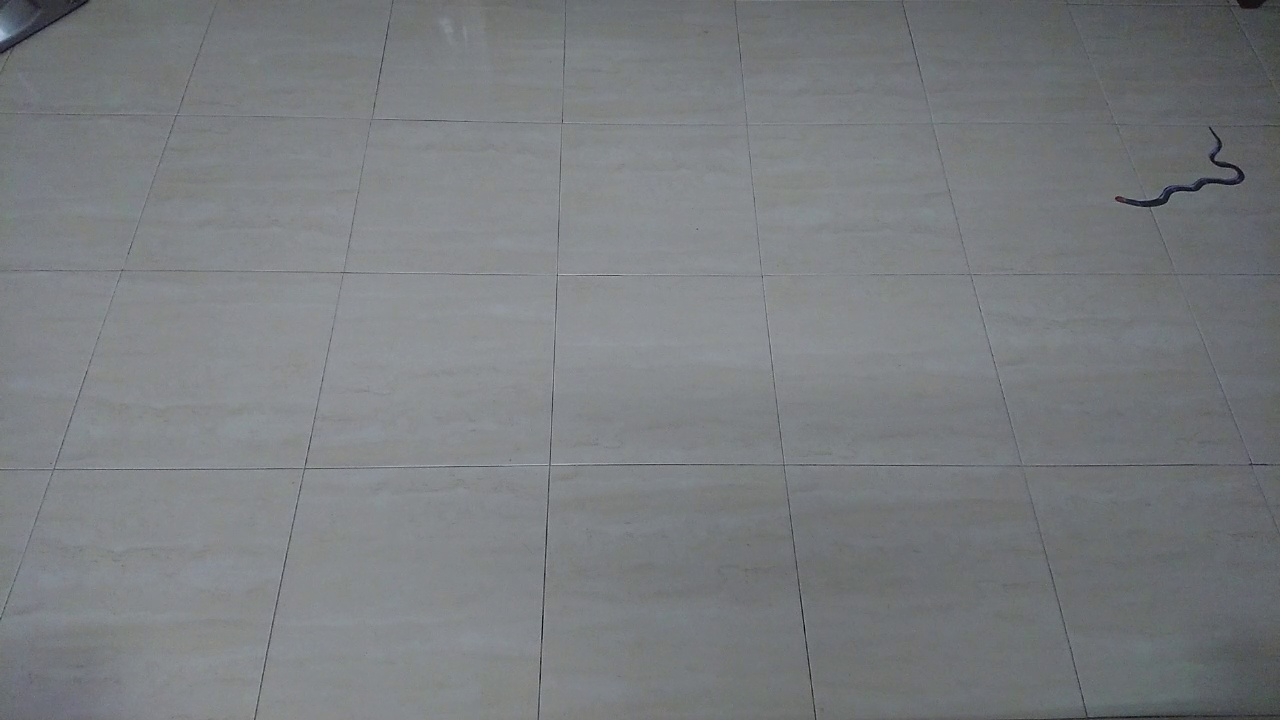snake: (1094, 115, 1255, 219)
